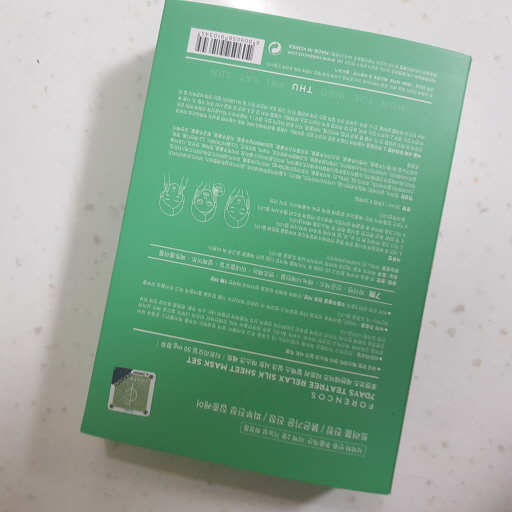Paper_0: (78, 1, 479, 497)
